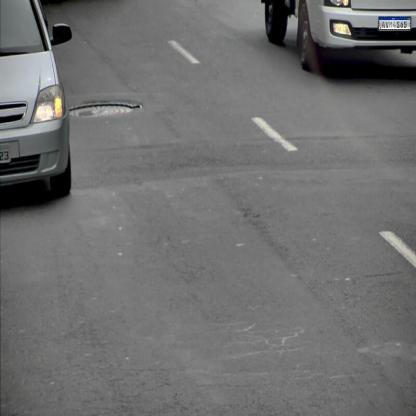PlacaM: (378, 16, 410, 30)
